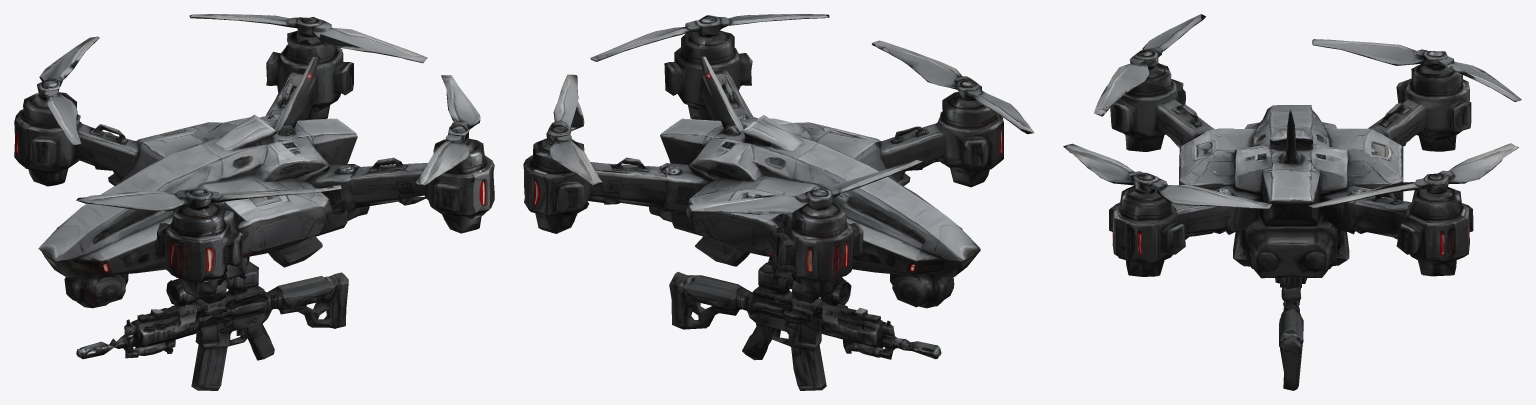
Rendered from drone.glb.
The picture shows the model from 3 angles, left to right: view 1: azimuth 30°, elevation 25°; view 2: azimuth 150°, elevation 25°; view 3: azimuth 270°, elevation 25°; orthographic projection. The views are drawn at different scales.
Parts seen in each view (by area): view 1: body_mesh, gun_mesh, rotor_BR_mesh, rotor_FL_mesh, rotor_FR_mesh, rotor_BL_mesh; view 2: body_mesh, gun_mesh, rotor_BL_mesh, rotor_BR_mesh, rotor_FR_mesh, rotor_FL_mesh; view 3: body_mesh, rotor_FR_mesh, rotor_BL_mesh, rotor_FL_mesh, rotor_BR_mesh, gun_mesh.
Part boxes in pixels (x1,y1,x2,y2): body_mesh: [14, 44, 494, 308]; gun_mesh: [76, 267, 348, 390]; rotor_BR_mesh: [76, 186, 336, 236]; rotor_FL_mesh: [189, 14, 427, 64]; rotor_FR_mesh: [332, 75, 485, 189]; rotor_BL_mesh: [23, 36, 99, 145]; body_mesh: [523, 47, 1003, 308]; gun_mesh: [669, 271, 941, 390]; rotor_BL_mesh: [689, 160, 922, 235]; rotor_BR_mesh: [877, 41, 1034, 134]; rotor_FR_mesh: [590, 14, 882, 63]; rotor_FL_mesh: [532, 74, 602, 186]; body_mesh: [1109, 78, 1473, 278]; rotor_FR_mesh: [1063, 111, 1271, 219]; rotor_BL_mesh: [1312, 39, 1521, 101]; rotor_FL_mesh: [1308, 143, 1518, 220]; rotor_BR_mesh: [1094, 14, 1205, 112]; gun_mesh: [1275, 277, 1307, 390].
Bounding box in the file's own units: 1.2 × 0.8608 × 1.19.
Materials: 1 (1 with a texture image).
